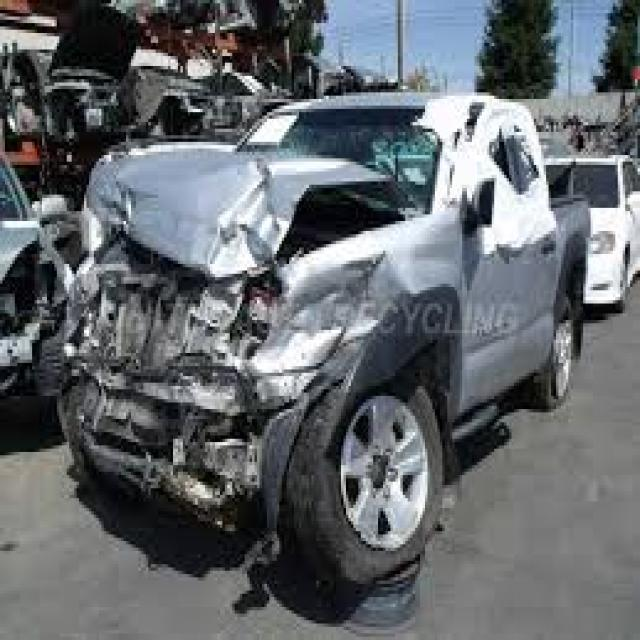severe: (38, 36, 439, 640)
